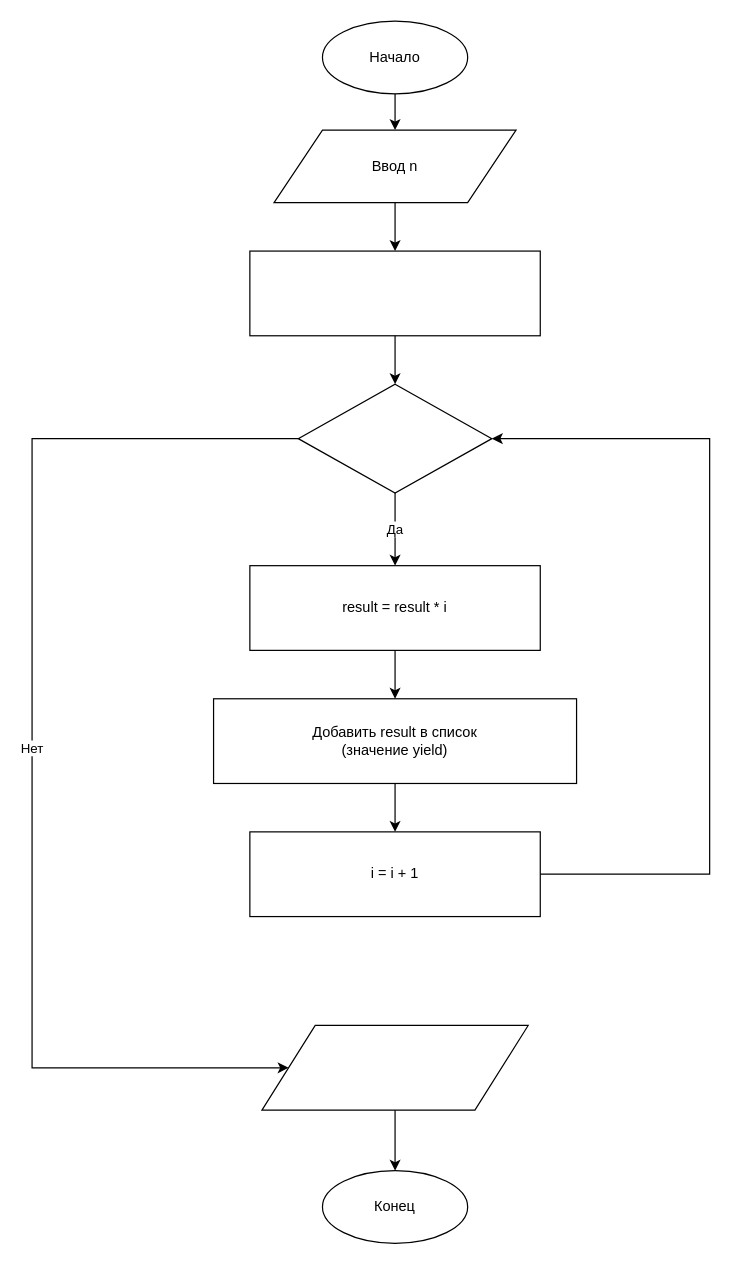
Some shapes in this 741 by 1264 pixel diagram are drawn without their labels. Each missing label, with the centre of its shape:
i <= n?: (394,438)
result = 1; i = 1: (394,293)
Вывод list(factorials(n)): (394,1067)
